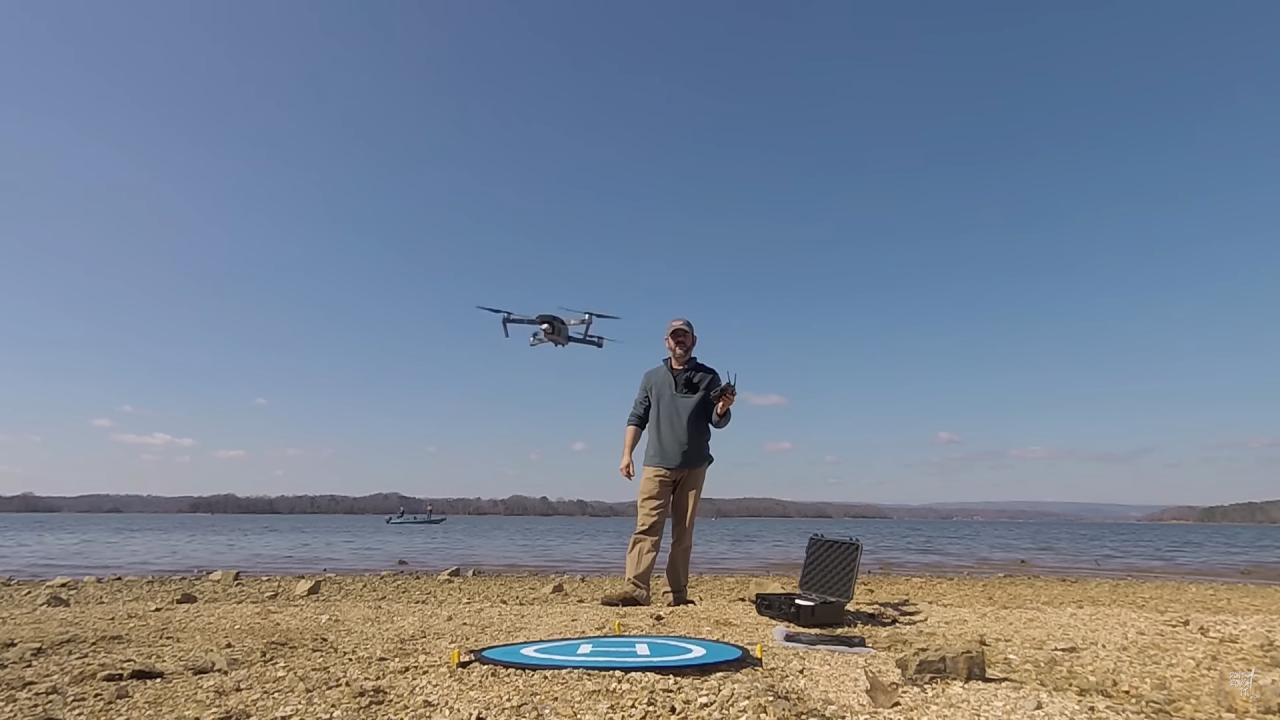Drone: (466, 288, 637, 363)
